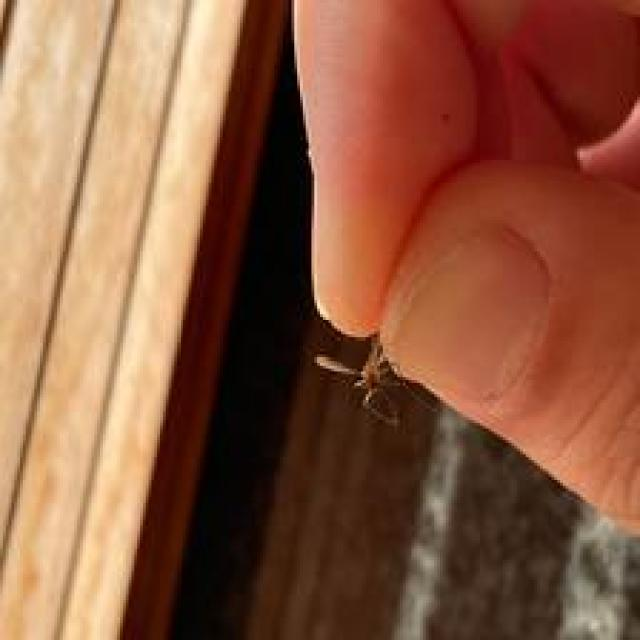Culex: (311, 334, 406, 429)
